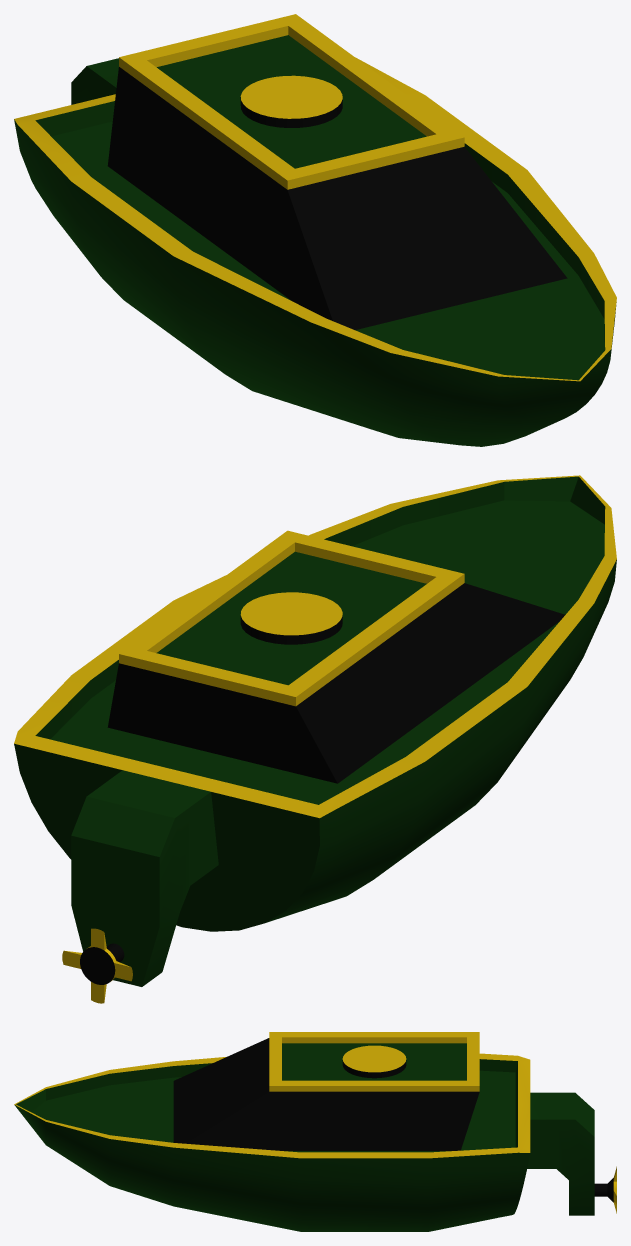
Rendered from motorboat.fbx.
The picture shows the model from 3 angles, top to bottom: view 1: azimuth 30°, elevation 25°; view 2: azimuth 150°, elevation 25°; view 3: azimuth 270°, elevation 25°; orthographic projection. The views are drawn at different scales.
Parts seen in each view (by area): view 1: Boat; view 2: Boat; view 3: Boat.
Part boxes in pixels (x1=…): Boat: x1=14, y1=14, x2=616, y2=446; Boat: x1=14, y1=475, x2=616, y2=1003; Boat: x1=14, y1=1032, x2=616, y2=1231.
Size of the model in its own units: 400 by 279 by 945.
